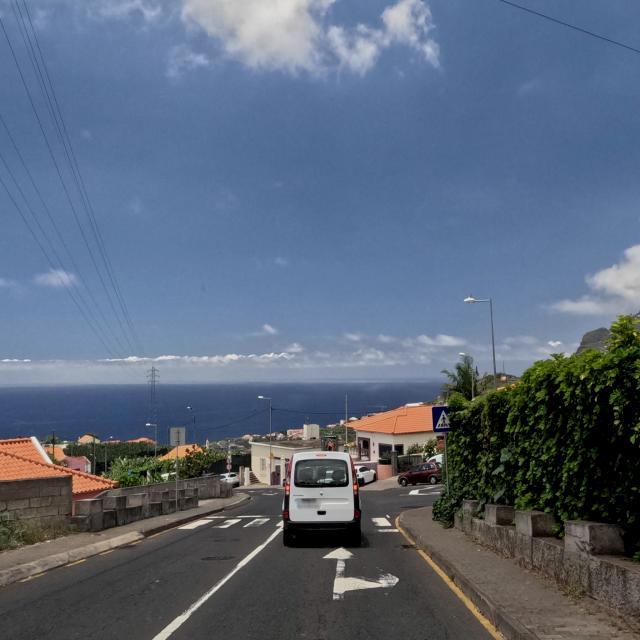car: (282, 450, 362, 547), (396, 462, 443, 486), (353, 464, 378, 486), (219, 472, 240, 487)
